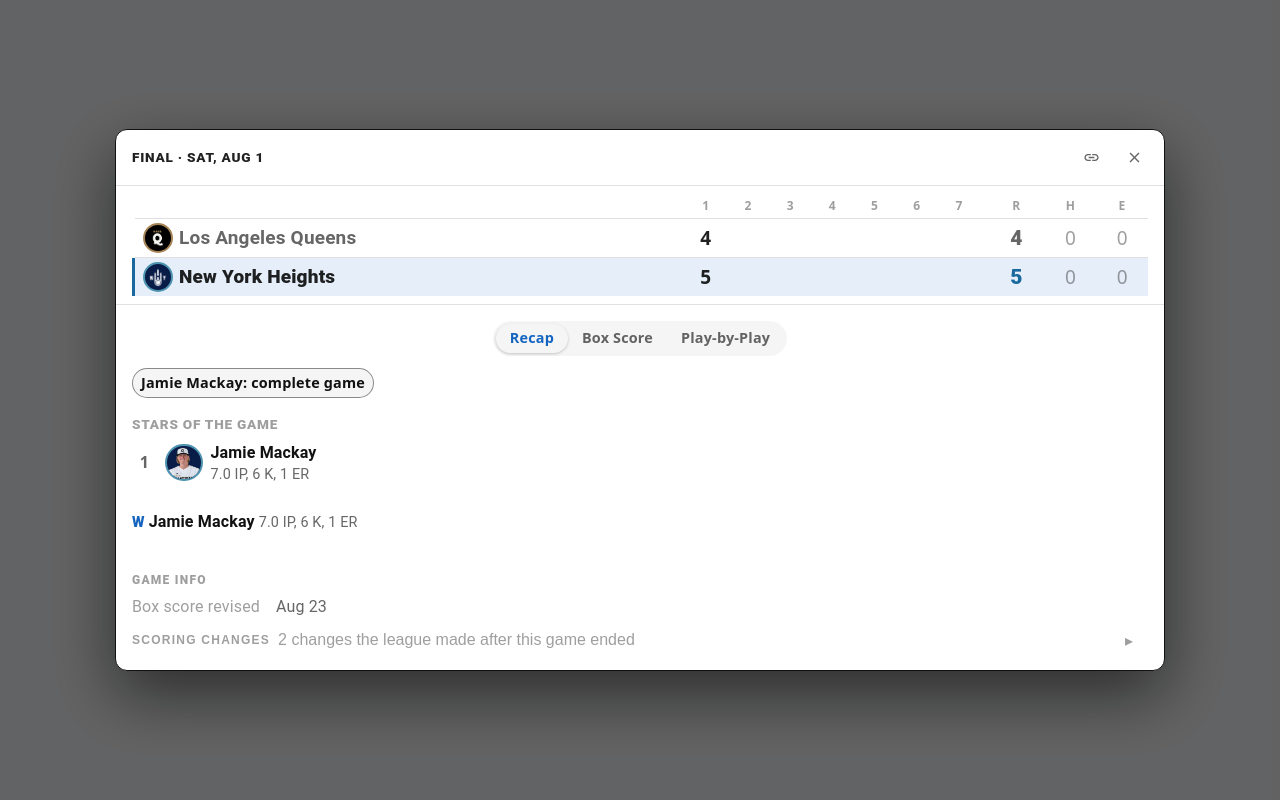
Scenario: the scoring changelog › dates the revision the same way the game info row does
Click the text "Scoring changes" at point(201, 640), box x1=132 y1=634 x2=270 y2=648
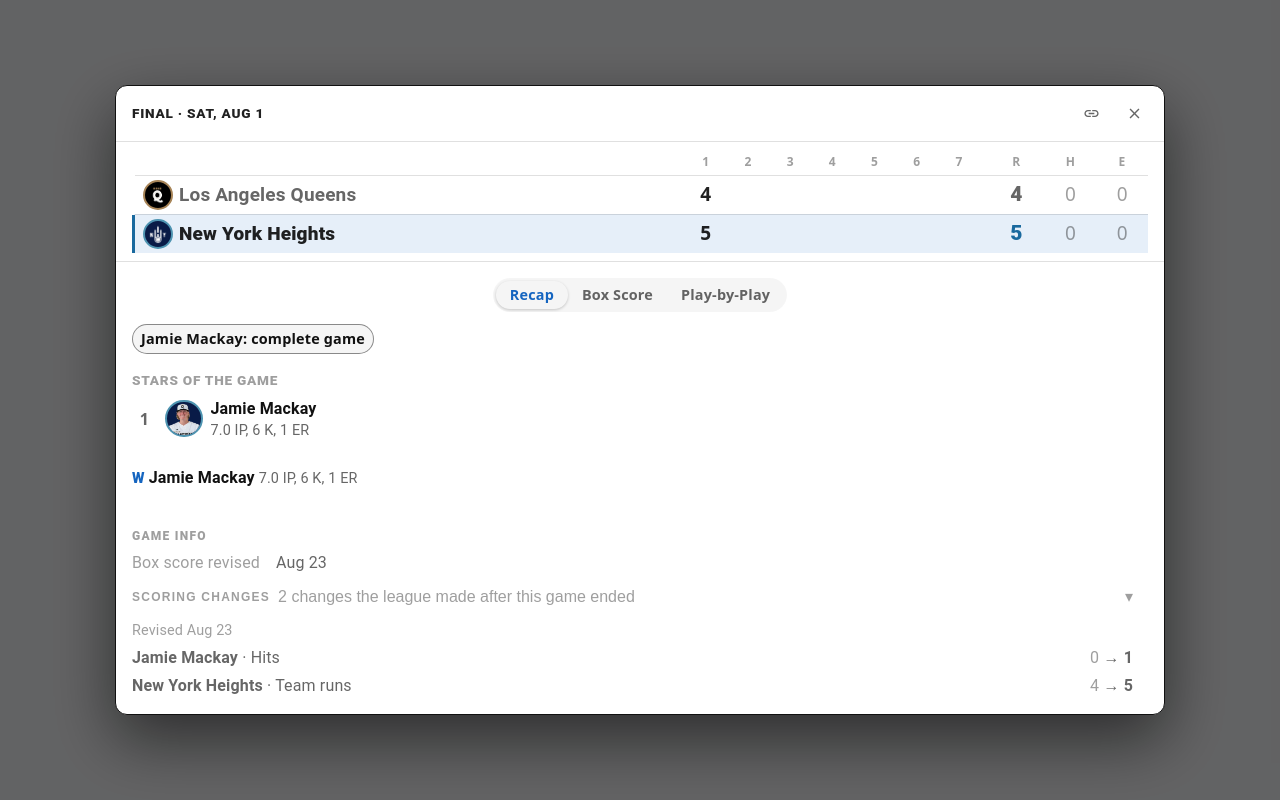
Expected: the text "Revised Aug 23" is shown, x1=132 y1=622 x2=233 y2=639
